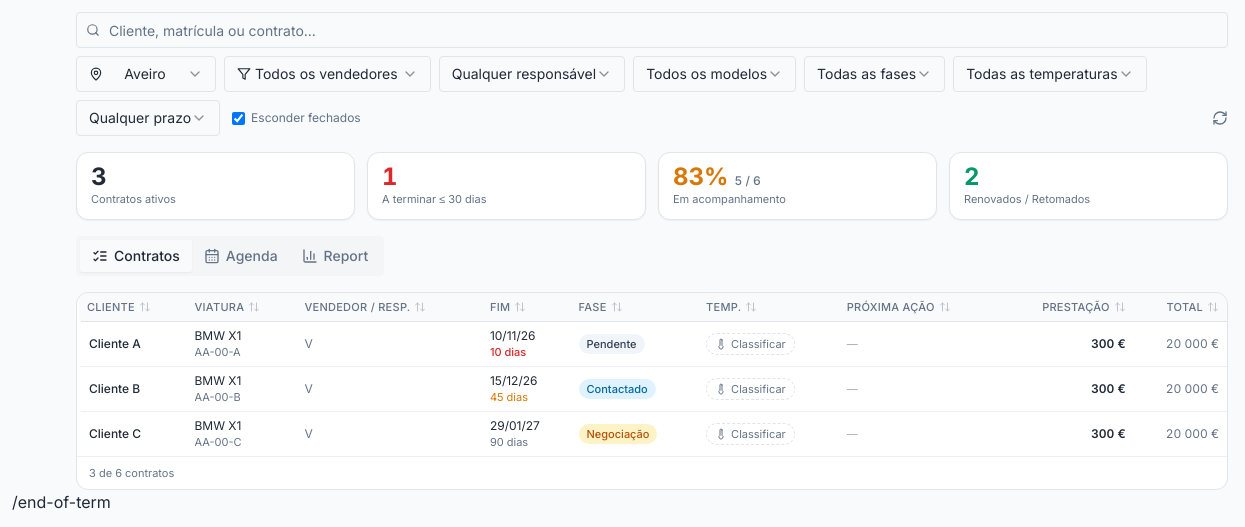
Scenario: EndOfTermPage — contadores clicáveis › os contadores seguem os outros filtros (a pesquisa reduz os números e a lista)
In the field with placeholder "Cliente, matrícula ou contrato…": (652, 30) [76,12,1228,48], type "Cliente B"
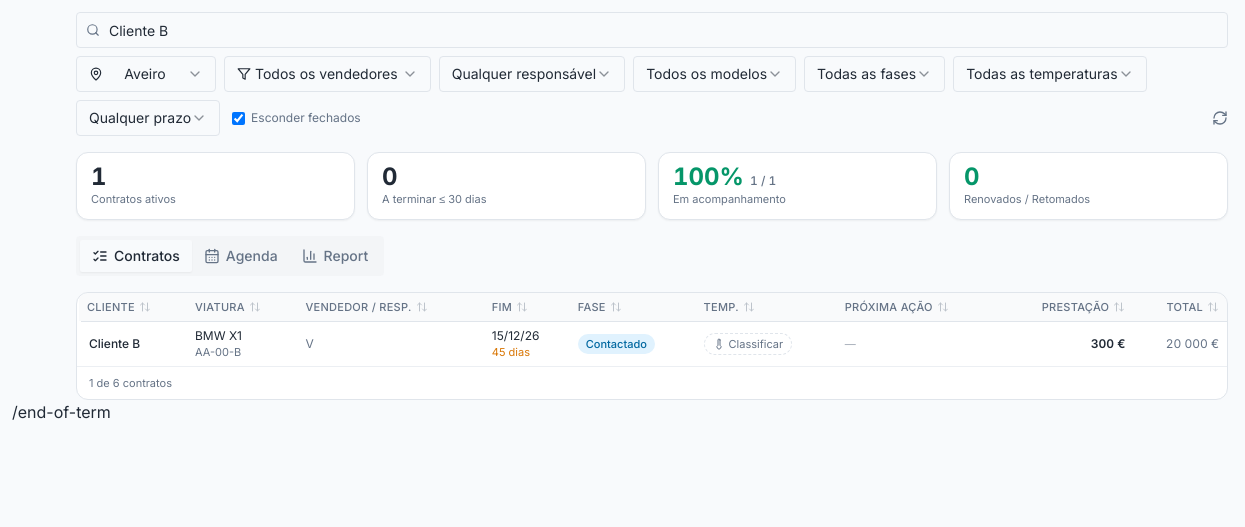
Check: the button "1 Contratos ativos" is shown, box [76,152,355,220]
Check: the button "100%1 / 1 Em acompanhamento" is shown
Check: the button "0 Renovados / Retomados" is shown, box [949,152,1228,220]
Click the button "100%1 / 1 Em acompanhamento": (708, 176) [658,152,937,220]
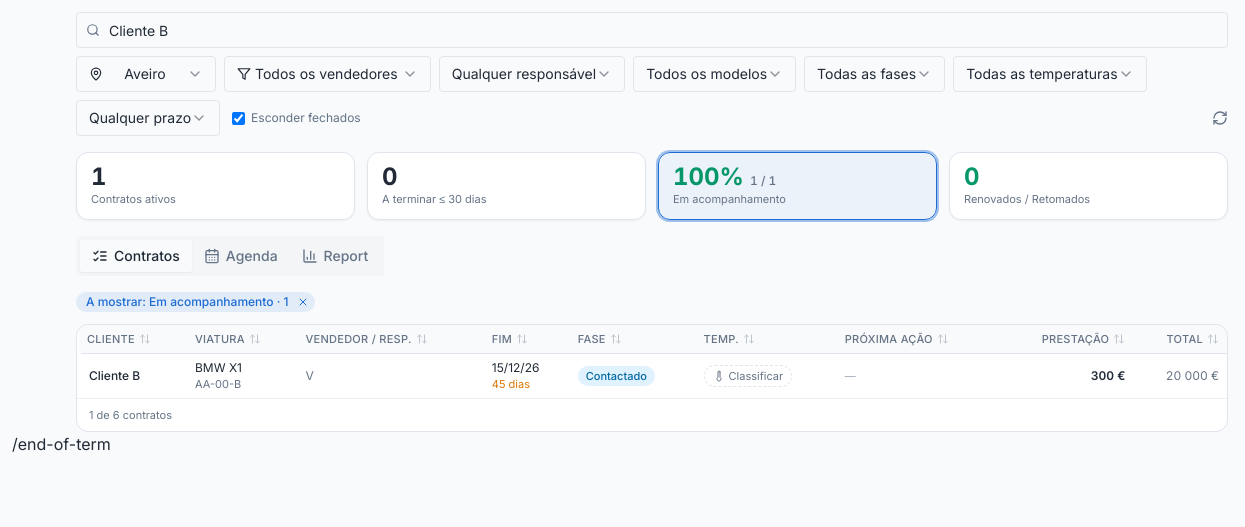
Check: the text "A mostrar: Em acompanhamento · 1" is shown, box [76,292,315,312]
